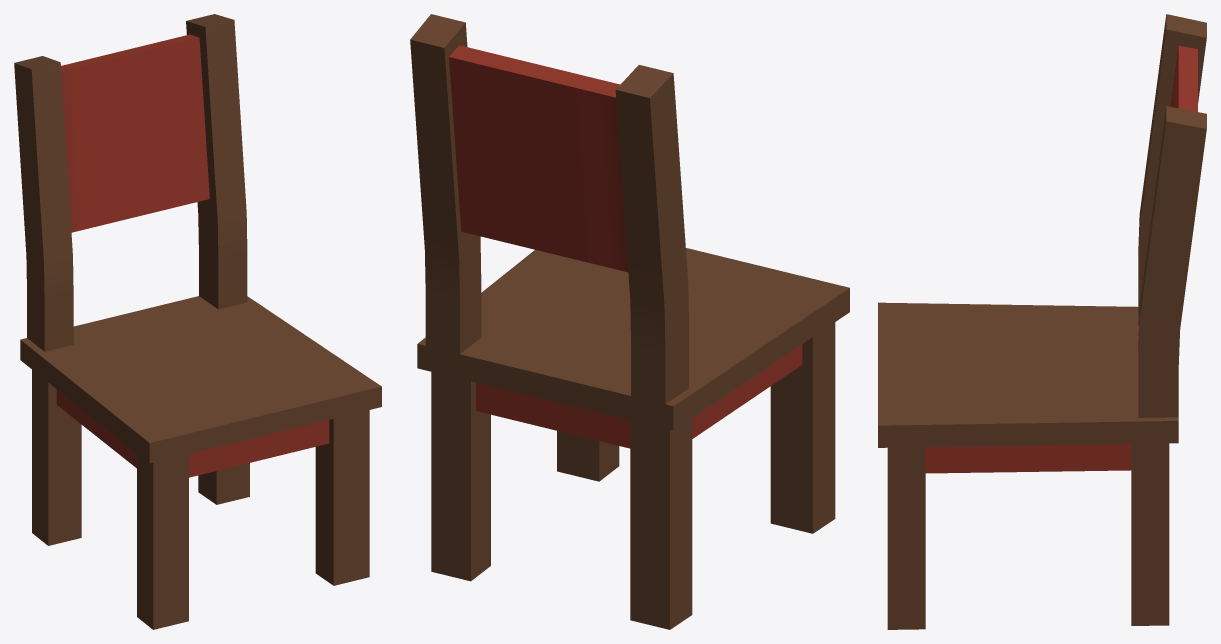
File: Sedia_2.fbx
3 views of the same model, side by side, from view 1: azimuth 30°, elevation 25°; view 2: azimuth 150°, elevation 25°; view 3: azimuth 270°, elevation 25° (orthographic). The views are drawn at different scales.
Visible parts, largest first — view 1: Sedia_2; view 2: Sedia_2; view 3: Sedia_2.
Boxes of the visible parts, x1,y1,x2,y2 form: Sedia_2: (14, 14, 381, 629); Sedia_2: (410, 14, 849, 629); Sedia_2: (878, 14, 1206, 629).
Bounding box in the file's own units: 0.9222 × 1.77 × 1.04.
